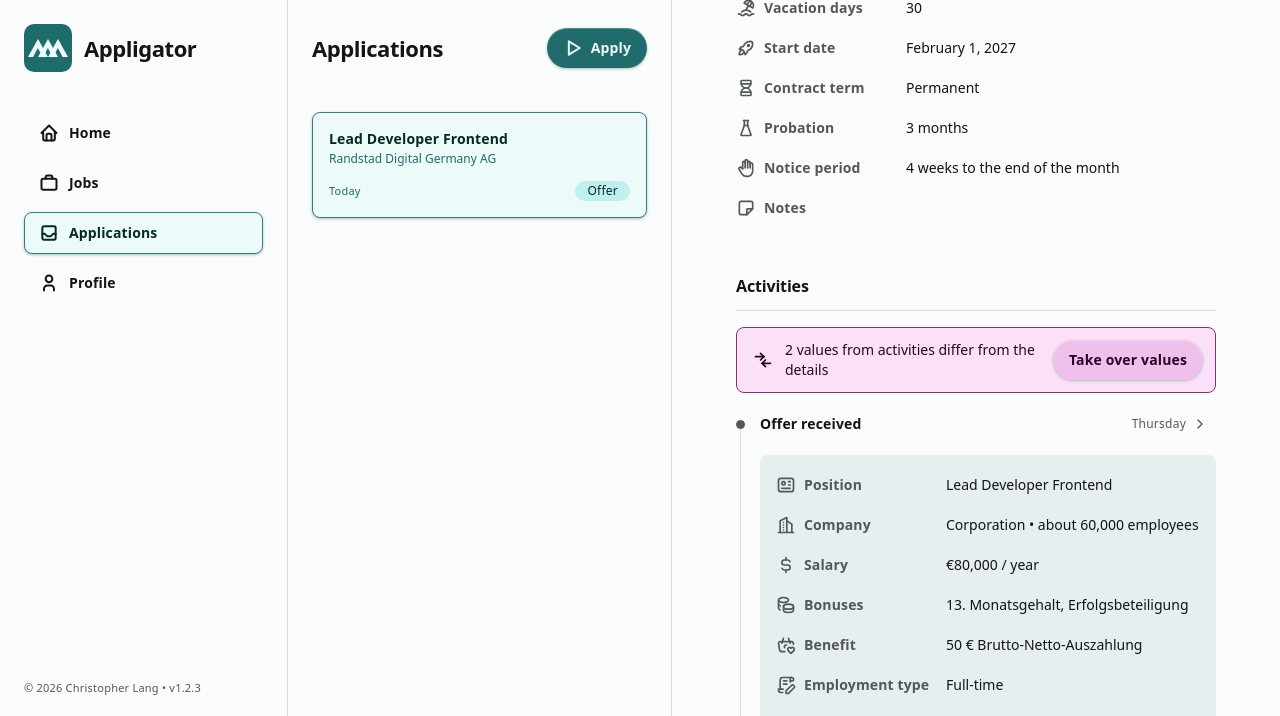
Test case: lists the differing values with their current and new value
This screenshot has width=1280, height=716.
(page scrolled)
Click the button "Take over values" at (1128, 360), box [1053,340,1203,380]
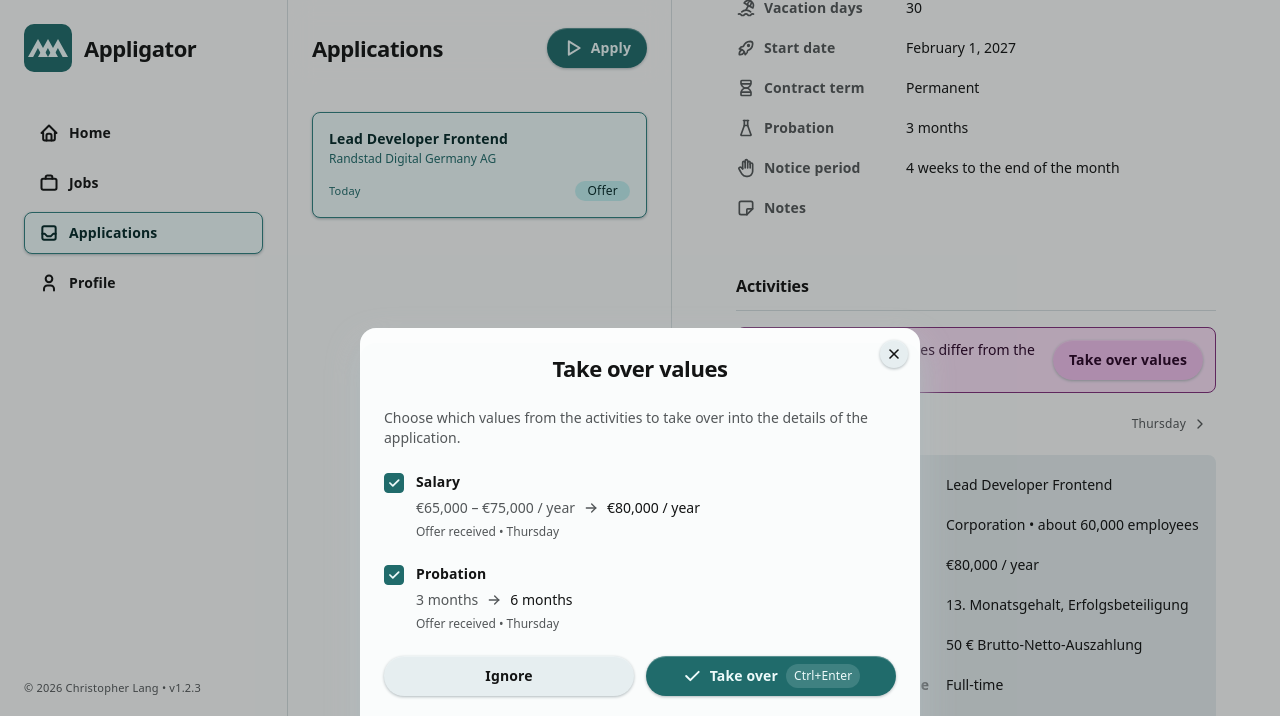
Now the 1st checkbox named "Salary" is checked, box [384,473,404,493]
